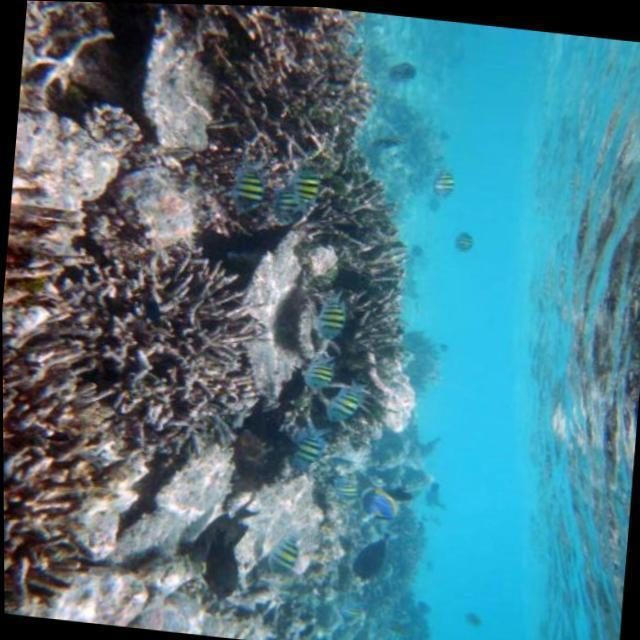Dead Coral: (67, 234, 277, 452), (3, 378, 118, 614), (202, 4, 371, 159), (314, 157, 428, 357)
